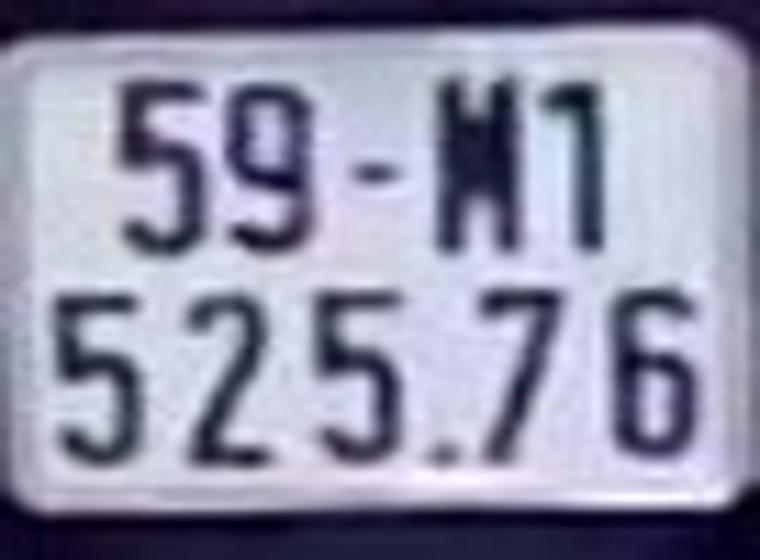-: (350, 165, 393, 181)
.: (430, 446, 456, 464)
1: (549, 76, 601, 246)
2: (183, 294, 269, 465)
5: (312, 288, 405, 461), (114, 79, 205, 251), (54, 287, 143, 462)
6: (609, 292, 697, 458)
7: (485, 290, 557, 464)
9: (225, 82, 313, 246)
M: (437, 78, 520, 257)
